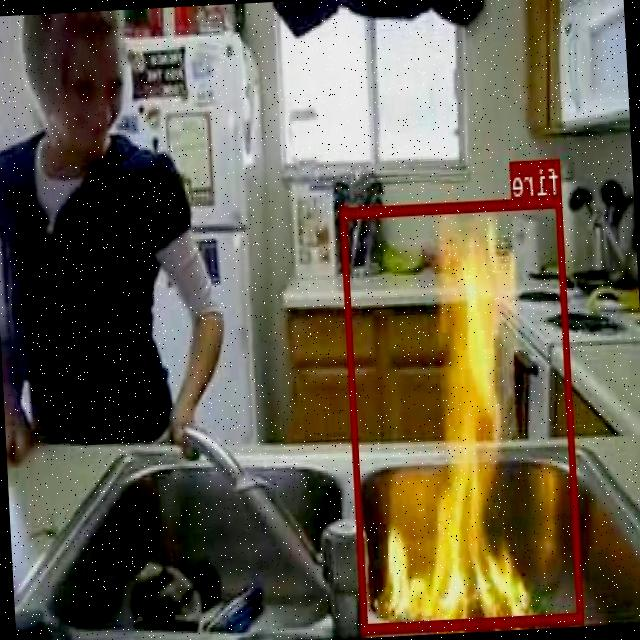fire: (342, 194, 585, 631)
